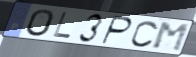3: (77, 13, 107, 44)
C: (130, 20, 161, 49)
L: (52, 11, 73, 40)
M: (151, 21, 191, 53)
O: (25, 8, 56, 38)
P: (99, 15, 134, 46)
